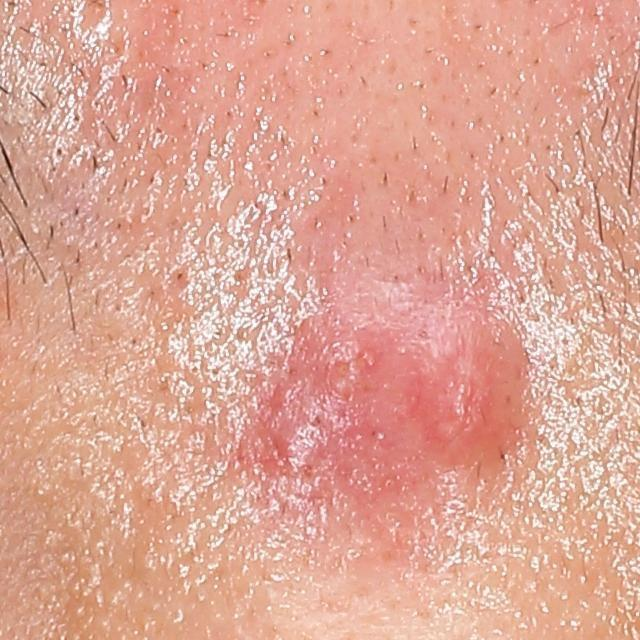nodule: (245, 261, 535, 508)
